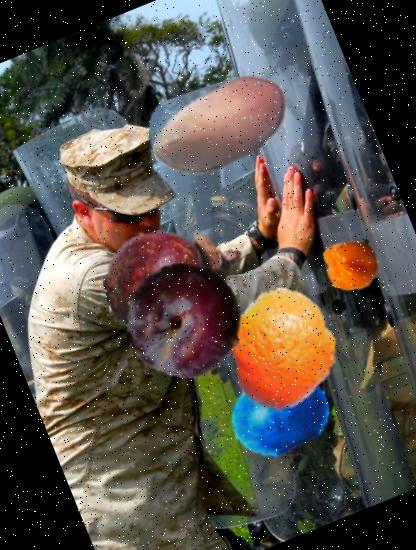Hazelnut: (126, 32, 315, 220)
Huckleberry: (213, 346, 344, 477)
Mandarine: (204, 268, 364, 428)
Mangostan: (83, 188, 268, 373)
Pepper: (314, 225, 390, 301)
Plum: (108, 244, 260, 396)
